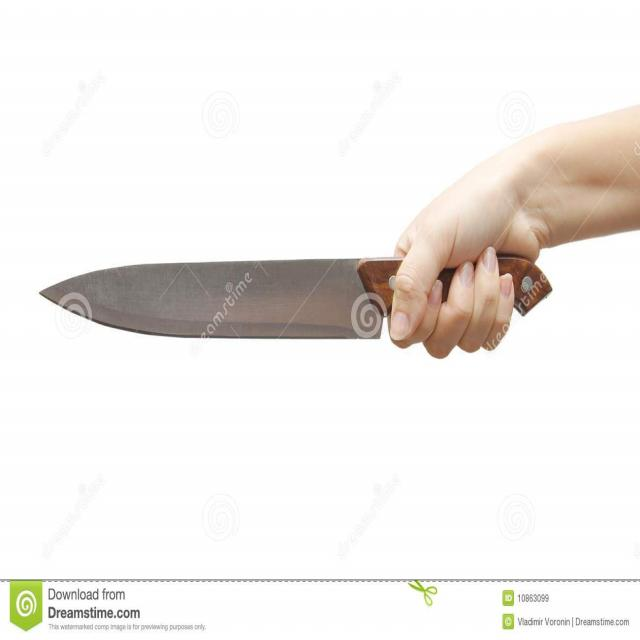knife: (18, 244, 572, 358)
